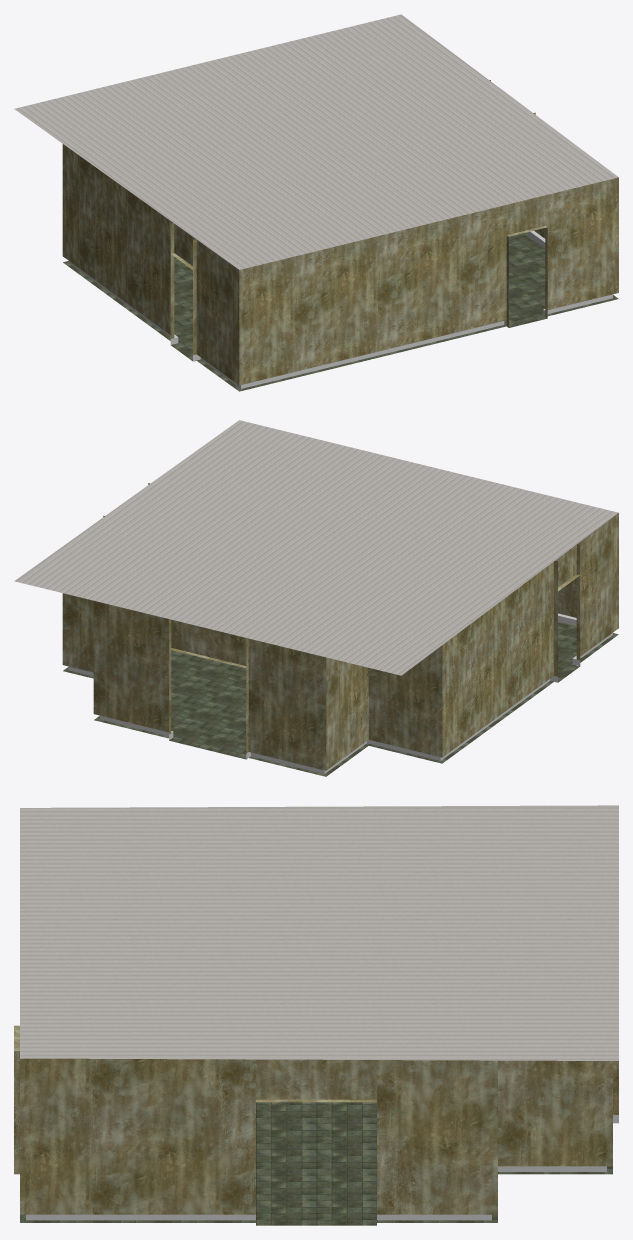
The model's file is reception.glb.
3 views of the same model, one above another, from view 1: azimuth 30°, elevation 25°; view 2: azimuth 150°, elevation 25°; view 3: azimuth 270°, elevation 25° (orthographic). The views are drawn at different scales.
Parts seen in each view (by area): view 1: Roof, Reception, Floor; view 2: Roof, Reception, Floor; view 3: Roof, Reception, Floor.
Boxes of the visible parts, bbox=[...] form: Roof: bbox=[14, 14, 618, 269]; Reception: bbox=[62, 80, 618, 388]; Floor: bbox=[63, 232, 618, 391]; Roof: bbox=[14, 420, 618, 675]; Reception: bbox=[62, 483, 618, 774]; Floor: bbox=[63, 621, 618, 776]; Roof: bbox=[20, 805, 618, 1060]; Reception: bbox=[14, 1025, 618, 1220]; Floor: bbox=[20, 1102, 612, 1225].
Size of what is drawn, in the model's own units: 10 by 3.01 by 10.
4 materials, 3 textured.
